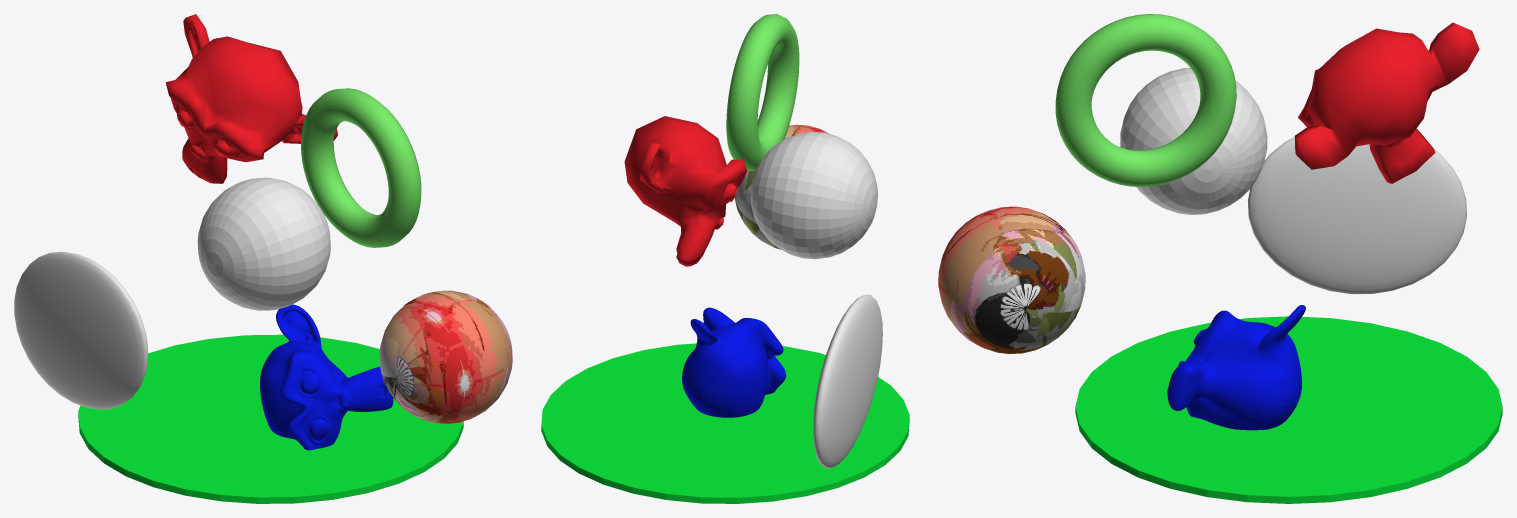
The model's file is stuff.glb.
3 views of the same model, side by side, from view 1: azimuth 30°, elevation 25°; view 2: azimuth 150°, elevation 25°; view 3: azimuth 270°, elevation 25° (orthographic). The views are drawn at different scales.
Parts seen in each view (by area): view 1: Cylinder, Sphere.002, Suzanne, Sphere, Sphere.001, Torus, Suzanne.001; view 2: Cylinder, Sphere.001, Suzanne, Suzanne.001, Torus, Sphere.002, Sphere; view 3: Cylinder, Sphere.002, Suzanne, Sphere, Torus, Suzanne.001, Sphere.001.
Boxes of the visible parts, x1=… form: Cylinder: x1=78, y1=334, x2=463, y2=503; Sphere.002: x1=14, y1=251, x2=148, y2=409; Suzanne: x1=166, y1=14, x2=337, y2=183; Sphere: x1=379, y1=290, x2=512, y2=423; Sphere.001: x1=197, y1=177, x2=330, y2=310; Torus: x1=301, y1=88, x2=421, y2=247; Suzanne.001: x1=260, y1=304, x2=393, y2=450; Cylinder: x1=541, y1=343, x2=909, y2=503; Sphere.001: x1=750, y1=131, x2=877, y2=259; Suzanne: x1=624, y1=116, x2=747, y2=266; Suzanne.001: x1=682, y1=307, x2=786, y2=417; Torus: x1=726, y1=14, x2=799, y2=170; Sphere.002: x1=813, y1=294, x2=882, y2=468; Sphere: x1=734, y1=124, x2=828, y2=249; Cylinder: x1=1075, y1=316, x2=1502, y2=503; Sphere.002: x1=1247, y1=137, x2=1466, y2=294; Suzanne: x1=1294, y1=22, x2=1479, y2=183; Sphere: x1=938, y1=206, x2=1085, y2=354; Torus: x1=1055, y1=14, x2=1236, y2=186; Suzanne.001: x1=1167, y1=305, x2=1305, y2=430; Sphere.001: x1=1120, y1=67, x2=1267, y2=214.
Size of the model in its own units: 8.57 by 9.84 by 10.89.
Materials: 7 (1 with a texture image).
